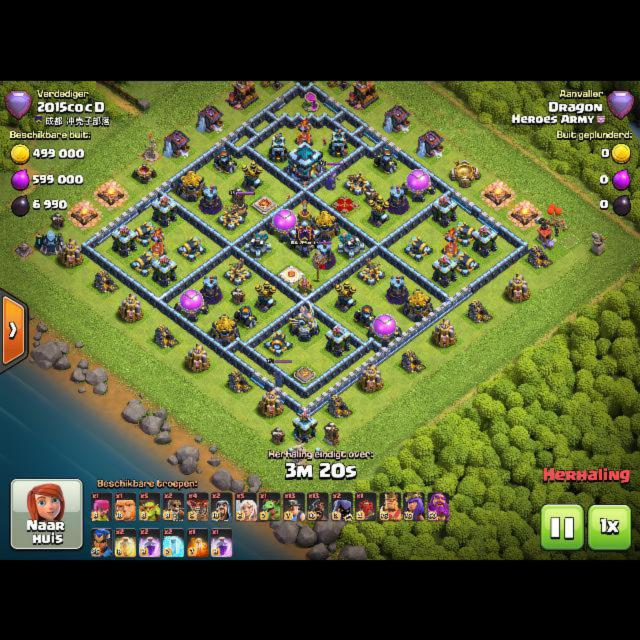AD: (254, 279, 277, 312), (240, 159, 262, 192), (367, 194, 389, 227), (334, 279, 356, 312)
AirSweeper: (294, 199, 315, 225), (294, 275, 315, 297)
BombTower: (269, 131, 288, 161), (329, 127, 347, 157)
Canon: (264, 329, 293, 356), (404, 235, 433, 261), (451, 250, 480, 276), (130, 251, 160, 276), (177, 235, 206, 260), (449, 221, 477, 246), (130, 221, 158, 246)
ClanCastle: (288, 218, 320, 256)
Eagle: (289, 302, 320, 341)
Inferno: (295, 118, 314, 147), (441, 228, 459, 257), (148, 228, 166, 257)
KingPad: (253, 195, 278, 214)
Mortar: (373, 147, 398, 173), (213, 148, 238, 174), (353, 304, 378, 329), (233, 304, 258, 328)
QueenPad: (332, 194, 359, 214)
RcPad: (293, 366, 315, 382)
Scattershot: (244, 229, 271, 259), (338, 231, 365, 260)
TH13: (286, 139, 322, 184)
WardenPad: (280, 265, 303, 282)
WizzTower: (199, 184, 221, 214), (313, 239, 335, 269), (387, 273, 408, 303), (200, 273, 221, 303), (387, 185, 408, 214)
Xbow: (224, 257, 253, 285), (357, 257, 386, 285), (217, 204, 246, 230), (343, 170, 372, 195)
